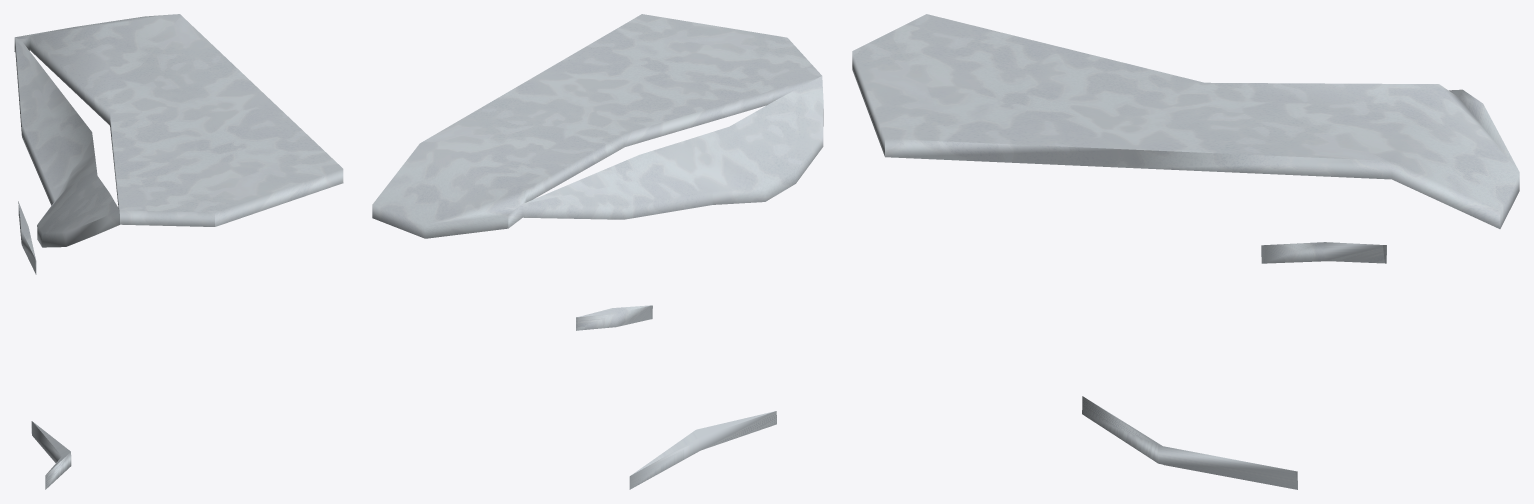
Rendered from Cliff_7_Snow.fbx.
3 renders of one model, left to right at view 1: azimuth 30°, elevation 25°; view 2: azimuth 150°, elevation 25°; view 3: azimuth 270°, elevation 25°, orthographic. The views are drawn at different scales.
Parts seen in each view (by area): view 1: Cliff_7_Snow; view 2: Cliff_7_Snow; view 3: Cliff_7_Snow.
Part boxes in pixels (x1,y1,x2,y2): Cliff_7_Snow: (14,14,343,489); Cliff_7_Snow: (372,14,823,489); Cliff_7_Snow: (852,14,1519,489).
Bounding box in the file's own units: 1624 × 1946 × 2653.
